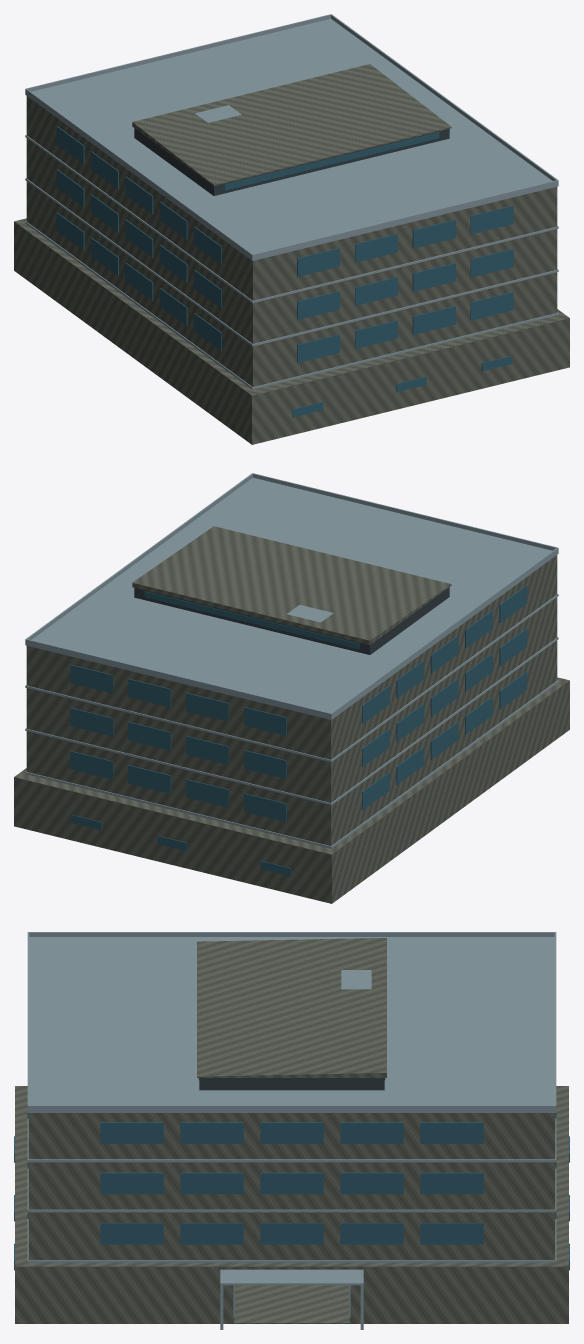
File: Capital_PublicForum.glb
3 views of the same model, one above another, from view 1: azimuth 30°, elevation 25°; view 2: azimuth 150°, elevation 25°; view 3: azimuth 270°, elevation 25° (orthographic). The views are drawn at different scales.
Parts seen in each view (by area): view 1: Capital_PublicForum_Roof, Capital_PublicForum_GroundShell, Capital_PublicForum_RoofMonitor, Capital_PublicForum_Upper1_Shell_F2, Capital_PublicForum_Upper1_Shell_F1, Capital_PublicForum_Upper1_Shell_F3, Capital_PublicForum_Foundation, Capital_PublicForum_TerraceDeck_1, Capital_PublicForum_Upper1_SideGlazing_F3, Capital_PublicForum_Upper1_SideGlazing_F1, Capital_PublicForum_Upper1_SideGlazing_F2, Capital_PublicForum_Upper1_EndGlazing_F2 (+6 smaller); view 2: Capital_PublicForum_Roof, Capital_PublicForum_GroundShell, Capital_PublicForum_RoofMonitor, Capital_PublicForum_Upper1_Shell_F2, Capital_PublicForum_Upper1_Shell_F1, Capital_PublicForum_Upper1_Shell_F3, Capital_PublicForum_Foundation, Capital_PublicForum_TerraceDeck_1, Capital_PublicForum_Upper1_SideGlazing_F3, Capital_PublicForum_Upper1_SideGlazing_F1, Capital_PublicForum_Upper1_SideGlazing_F2, Capital_PublicForum_Upper1_EndGlazing_F2 (+6 smaller); view 3: Capital_PublicForum_Roof, Capital_PublicForum_RoofMonitor, Capital_PublicForum_GroundShell, Capital_PublicForum_Upper1_Shell_F2, Capital_PublicForum_Upper1_Shell_F3, Capital_PublicForum_Upper1_Shell_F1, Capital_PublicForum_Upper1_EndGlazing_F2, Capital_PublicForum_TerraceDeck_1, Capital_PublicForum_Foundation, Capital_PublicForum_Upper1_EndGlazing_F1, Capital_PublicForum_Upper1_EndGlazing_F3, Capital_PublicForum_PortalFixture (+5 smaller).
Part boxes in pixels (x1,y1,x2,y2): Capital_PublicForum_Roof: (25, 14, 558, 260); Capital_PublicForum_GroundShell: (14, 222, 569, 438); Capital_PublicForum_RoofMonitor: (132, 64, 451, 195); Capital_PublicForum_Upper1_Shell_F2: (26, 138, 557, 346); Capital_PublicForum_Upper1_Shell_F1: (26, 181, 557, 386); Capital_PublicForum_Upper1_Shell_F3: (26, 96, 557, 303); Capital_PublicForum_Foundation: (14, 264, 569, 444); Capital_PublicForum_TerraceDeck_1: (14, 218, 569, 395); Capital_PublicForum_Upper1_SideGlazing_F3: (297, 205, 513, 276); Capital_PublicForum_Upper1_SideGlazing_F1: (297, 292, 513, 362); Capital_PublicForum_Upper1_SideGlazing_F2: (297, 249, 513, 319); Capital_PublicForum_Upper1_EndGlazing_F2: (56, 169, 221, 307); Capital_PublicForum_Roof: (25, 473, 558, 719); Capital_PublicForum_GroundShell: (14, 681, 569, 897); Capital_PublicForum_RoofMonitor: (132, 526, 451, 654); Capital_PublicForum_Upper1_Shell_F2: (26, 597, 557, 805); Capital_PublicForum_Upper1_Shell_F1: (26, 640, 557, 845); Capital_PublicForum_Upper1_Shell_F3: (26, 555, 557, 762); Capital_PublicForum_Foundation: (14, 723, 569, 903); Capital_PublicForum_TerraceDeck_1: (14, 677, 569, 854); Capital_PublicForum_Upper1_SideGlazing_F3: (70, 664, 286, 735); Capital_PublicForum_Upper1_SideGlazing_F1: (70, 751, 286, 821); Capital_PublicForum_Upper1_SideGlazing_F2: (70, 708, 286, 778); Capital_PublicForum_Upper1_EndGlazing_F2: (362, 628, 527, 766); Capital_PublicForum_Roof: (27, 932, 556, 1112); Capital_PublicForum_RoofMonitor: (197, 938, 386, 1090); Capital_PublicForum_GroundShell: (15, 1267, 568, 1316); Capital_PublicForum_Upper1_Shell_F2: (28, 1162, 555, 1212); Capital_PublicForum_Upper1_Shell_F3: (28, 1113, 555, 1162); Capital_PublicForum_Upper1_Shell_F1: (28, 1213, 555, 1259); Capital_PublicForum_Upper1_EndGlazing_F2: (100, 1172, 483, 1194); Capital_PublicForum_TerraceDeck_1: (15, 1086, 568, 1268); Capital_PublicForum_Foundation: (15, 1285, 568, 1323); Capital_PublicForum_Upper1_EndGlazing_F1: (100, 1223, 483, 1244); Capital_PublicForum_Upper1_EndGlazing_F3: (100, 1122, 483, 1143); Capital_PublicForum_PortalFixture: (220, 1269, 363, 1329).
Bounding box in the file's own units: 39.8 × 21.82 × 48.16.
Materials: 6 (2 with a texture image).
